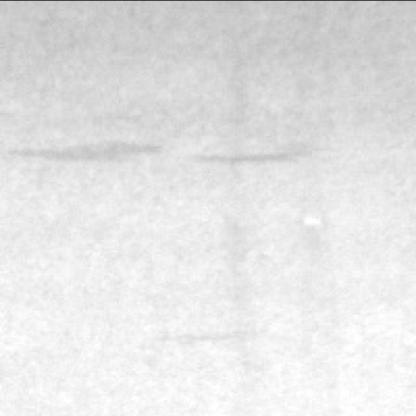inclusion: (183, 141, 314, 179)
